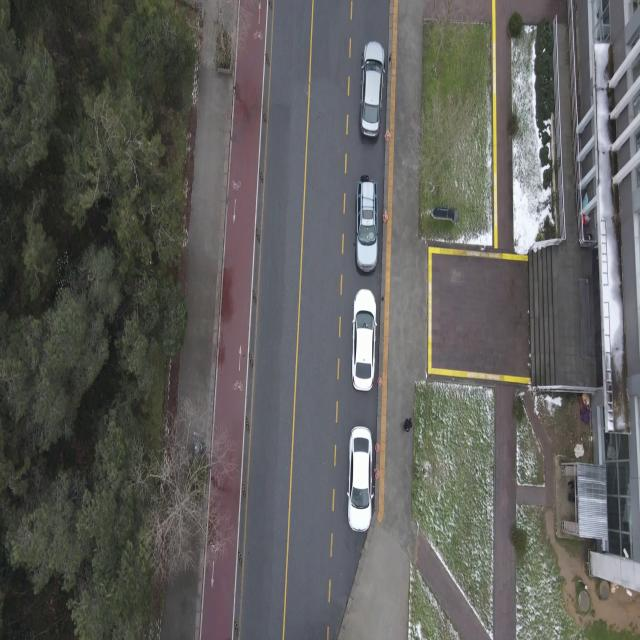p3rson: (403, 416, 413, 433), (567, 480, 574, 489)
